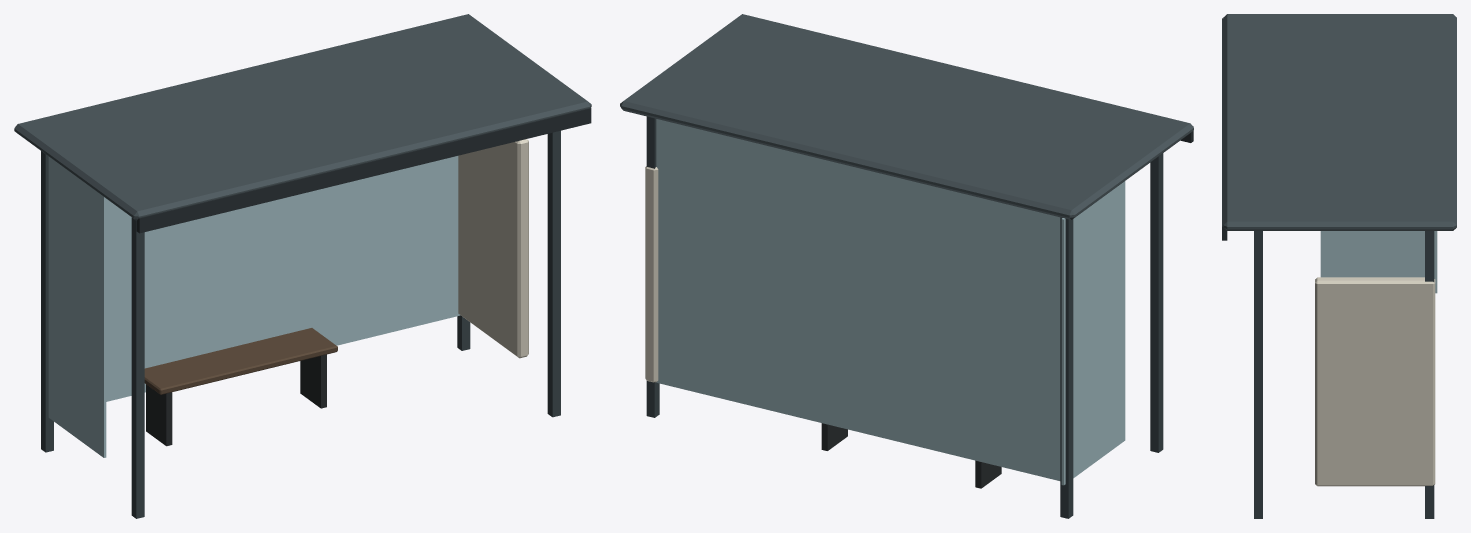
The model's file is shelter.glb.
The picture shows the model from 3 angles, left to right: view 1: azimuth 30°, elevation 25°; view 2: azimuth 150°, elevation 25°; view 3: azimuth 270°, elevation 25°; orthographic projection. The views are drawn at different scales.
Visible parts, largest first — view 1: Cube.004, Cube.006, Cube.007, Cube.008, Cube.005, Cube.009, Cube.001, Cube.003, Cube, Cube.010, Cube.011; view 2: Cube.006, Cube.004, Cube.007, Cube.001, Cube, Cube.008, Cube.002; view 3: Cube.004, Cube.008, Cube.007, Cube.003, Cube.002, Cube.005.
Boxes of the visible parts, left/top/right/bottom form: Cube.004: left=14, top=14, right=591, bottom=220; Cube.006: left=106, top=156, right=460, bottom=401; Cube.007: left=48, top=157, right=106, bottom=457; Cube.008: left=458, top=139, right=528, bottom=358; Cube.005: left=136, top=108, right=591, bottom=233; Cube.009: left=144, top=328, right=337, bottom=394; Cube.001: left=131, top=217, right=144, bottom=518; Cube.003: left=547, top=130, right=560, bottom=417; Cube: left=41, top=151, right=53, bottom=452; Cube.010: left=146, top=384, right=172, bottom=446; Cube.011: left=300, top=354, right=326, bottom=408; Cube.006: left=656, top=119, right=1060, bottom=480; Cube.004: left=620, top=14, right=1193, bottom=219; Cube.007: left=1061, top=181, right=1125, bottom=485; Cube.001: left=1150, top=153, right=1163, bottom=452; Cube: left=1060, top=217, right=1073, bottom=518; Cube.008: left=645, top=166, right=658, bottom=382; Cube.002: left=646, top=116, right=659, bottom=417; Cube.004: left=1223, top=14, right=1456, bottom=230; Cube.008: left=1315, top=277, right=1435, bottom=486; Cube.007: left=1320, top=231, right=1437, bottom=293; Cube.003: left=1254, top=231, right=1262, bottom=518; Cube.002: left=1425, top=231, right=1434, bottom=518; Cube.005: left=1222, top=18, right=1227, bottom=240.
Size of the model in its own units: 3.85 by 2.58 by 1.81.
